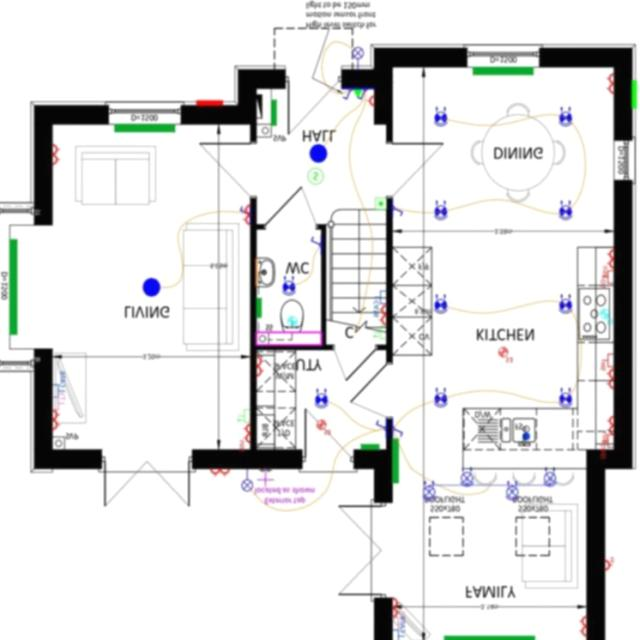BT Entry Point: (352, 90, 360, 100)
Cat 6 Data Socket: (372, 292, 386, 319), (51, 372, 64, 399), (392, 618, 405, 640)
Ceiling Mounted Continuous Extract FanWith Boost Mode Activated By Light Switch: (286, 318, 297, 327)
Ceiling Mounted Continuous Extract FanWith Local Boost Switch: (498, 347, 512, 364), (316, 420, 329, 437)
Co-Ax TV Socket: (51, 393, 64, 412), (392, 614, 404, 630)
Consumer Unit: (256, 95, 262, 120)
Double Socket: (378, 306, 386, 327), (578, 616, 586, 637), (209, 470, 229, 478), (605, 370, 613, 390), (392, 599, 400, 618), (242, 205, 249, 226), (52, 145, 59, 166), (52, 410, 59, 431), (605, 74, 612, 94), (256, 357, 263, 377)
Electric Meter Box: (195, 100, 222, 108)
External Wall Light: (352, 48, 363, 71), (241, 470, 251, 492)
Gas Meter Box: (630, 81, 636, 110)
Grid Switch: (600, 436, 612, 460)
Hob Switch: (599, 354, 612, 372)
Light Switch: (391, 207, 403, 217), (310, 237, 320, 249), (375, 421, 386, 431), (356, 90, 366, 100), (341, 90, 351, 100), (392, 428, 402, 438), (239, 206, 250, 215)
Low Energy Downlighter: (432, 107, 447, 128), (281, 276, 296, 297), (432, 388, 447, 408), (558, 201, 572, 221), (433, 201, 447, 221), (558, 295, 572, 315), (433, 295, 447, 315), (558, 107, 571, 128), (558, 388, 571, 408), (314, 390, 327, 409)
Low Energy Pendant Light: (309, 145, 327, 164), (142, 279, 160, 298)
Mains Wired Smoke Detector: (306, 168, 322, 185)
Outside Socket: (604, 558, 613, 571)
Outside Tap: (256, 471, 273, 487)
Oven Switch: (600, 271, 612, 289)
Programmable Room Thermostat: (375, 198, 384, 211)
Radiator: (9, 240, 16, 336), (113, 124, 174, 134), (472, 68, 533, 76), (443, 637, 534, 640), (392, 439, 397, 485), (270, 100, 276, 127), (360, 444, 378, 450), (256, 299, 260, 318)
Single Socket: (365, 97, 373, 106)
Telephone Socket: (236, 411, 249, 425), (373, 327, 385, 340)
Track Light: (422, 468, 557, 501)
USB Double Socket: (603, 416, 614, 443), (238, 425, 249, 451), (603, 251, 613, 276)
Water Entry Position: (522, 433, 529, 441)
